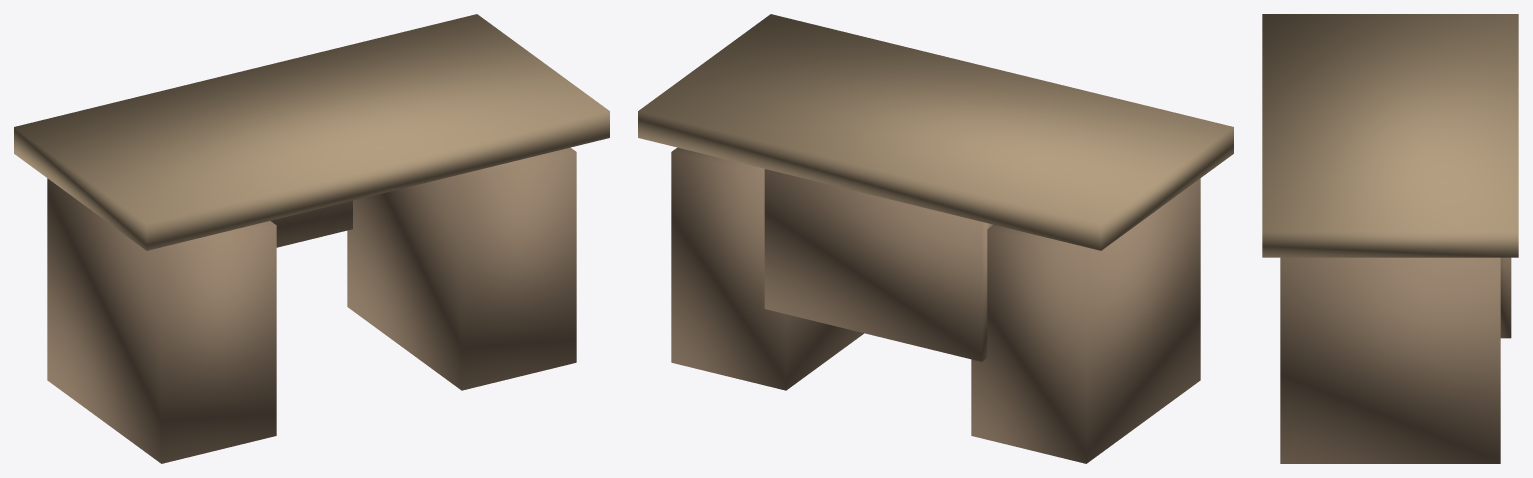
The model's file is office_desk.glb.
3 renders of one model, left to right at view 1: azimuth 30°, elevation 25°; view 2: azimuth 150°, elevation 25°; view 3: azimuth 270°, elevation 25°, orthographic. The views are drawn at different scales.
Visible parts, largest first — view 1: world; view 2: world; view 3: world.
Part boxes in pixels (bbox=[...]): world: bbox=[14, 14, 609, 463]; world: bbox=[638, 14, 1233, 463]; world: bbox=[1262, 14, 1518, 463].
Bounding box in the file's own units: 1.45 × 0.755 × 0.72.
